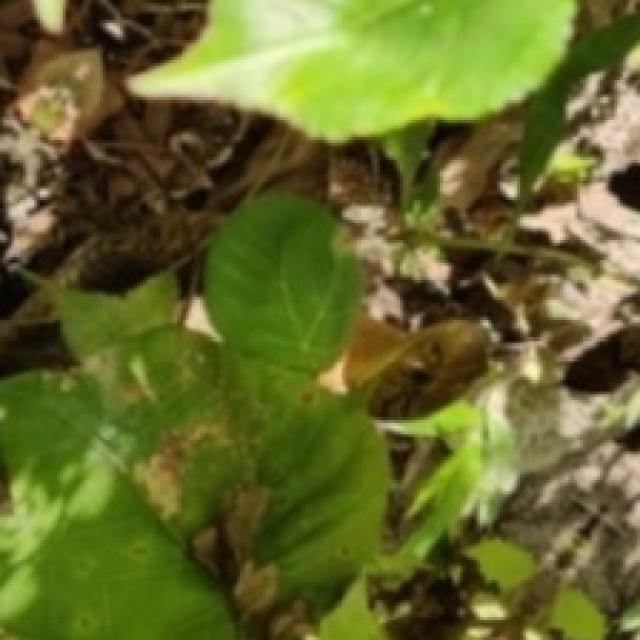king cobra: (320, 316, 489, 418), (60, 210, 222, 290), (0, 289, 80, 376), (181, 294, 220, 340)
